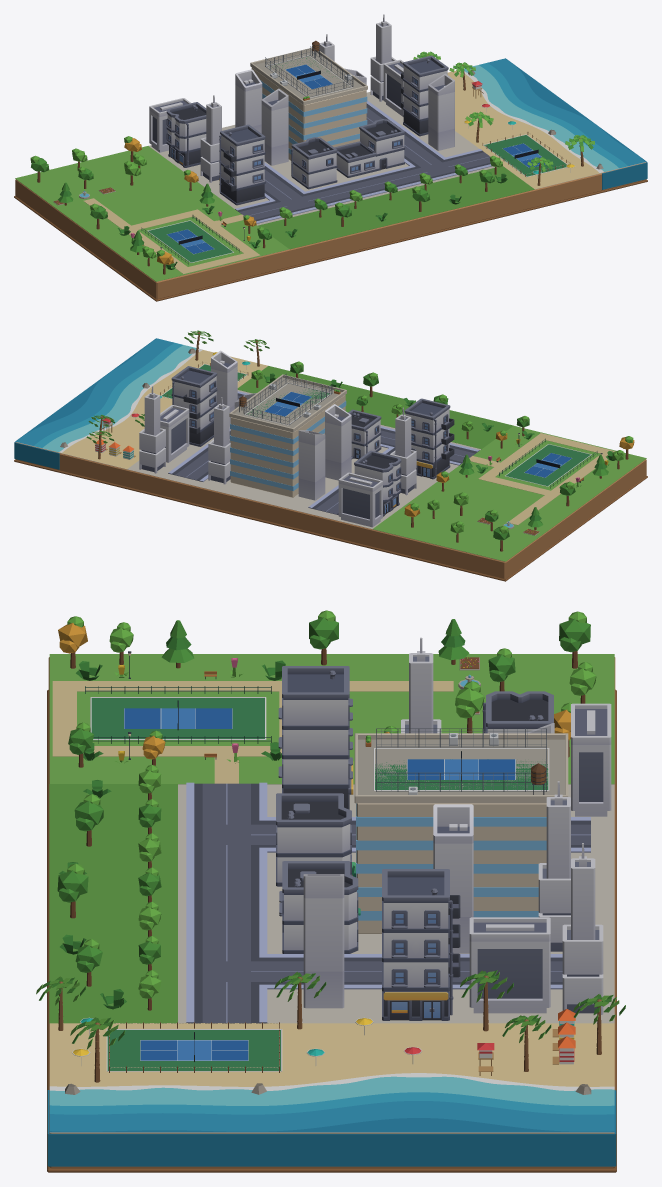
The model's file is map.glb.
3 renders of one model, top to bottom at view 1: azimuth 30°, elevation 25°; view 2: azimuth 150°, elevation 25°; view 3: azimuth 270°, elevation 25°, orthographic. The views are drawn at different scales.
Parts seen in each view (by area): view 1: map, water, sway; view 2: map, water, sway; view 3: map, water, sway.
Boxes of the visible parts, x1,y1,x2,y2 form: map: (14,14,647,301); water: (464,58,646,172); sway: (30,51,594,274); map: (14,348,647,581); water: (15,338,202,452); sway: (86,330,634,551); map: (47,637,616,1172); water: (49,1073,614,1132); sway: (36,610,625,1082).
Size of the model in its own units: 14.04 by 2.79 by 7.29.
